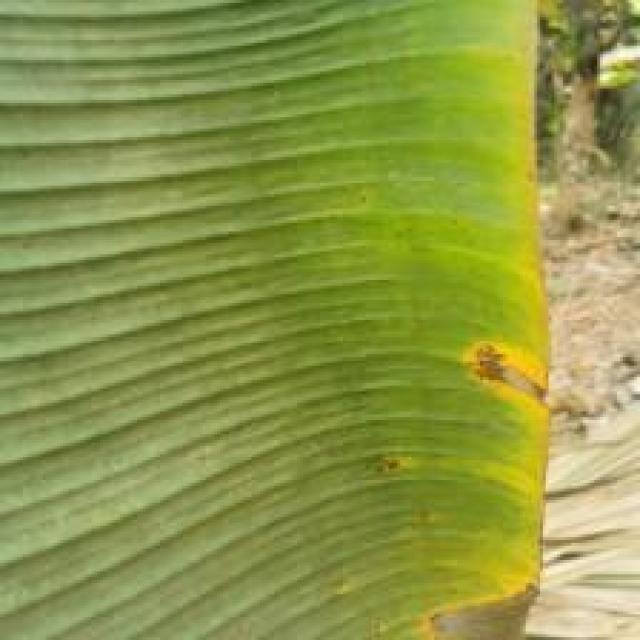Downey_mildrew: (325, 0, 555, 640)
